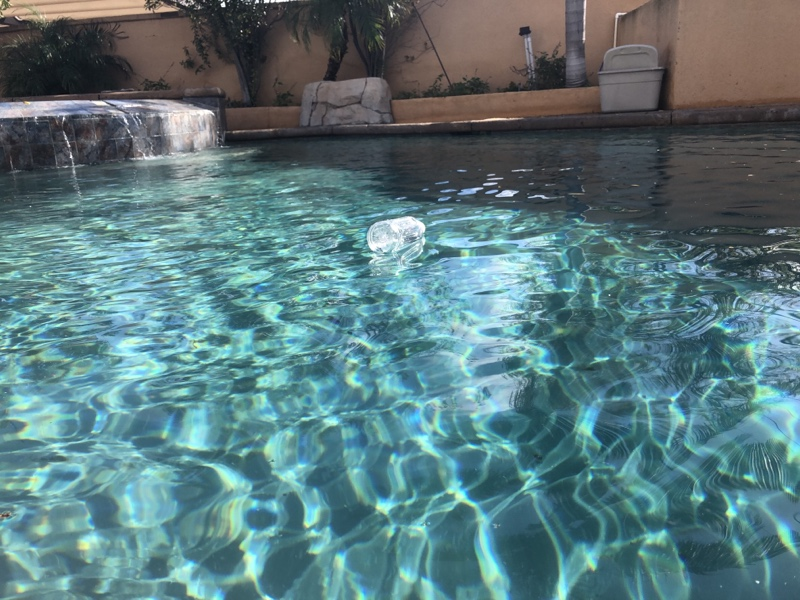Plastic Bottle: (363, 214, 433, 260)
